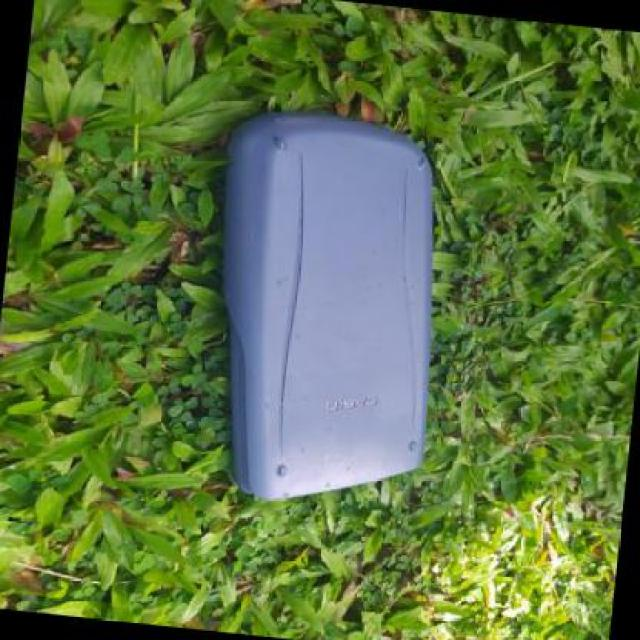Calculator: (180, 100, 465, 522)
